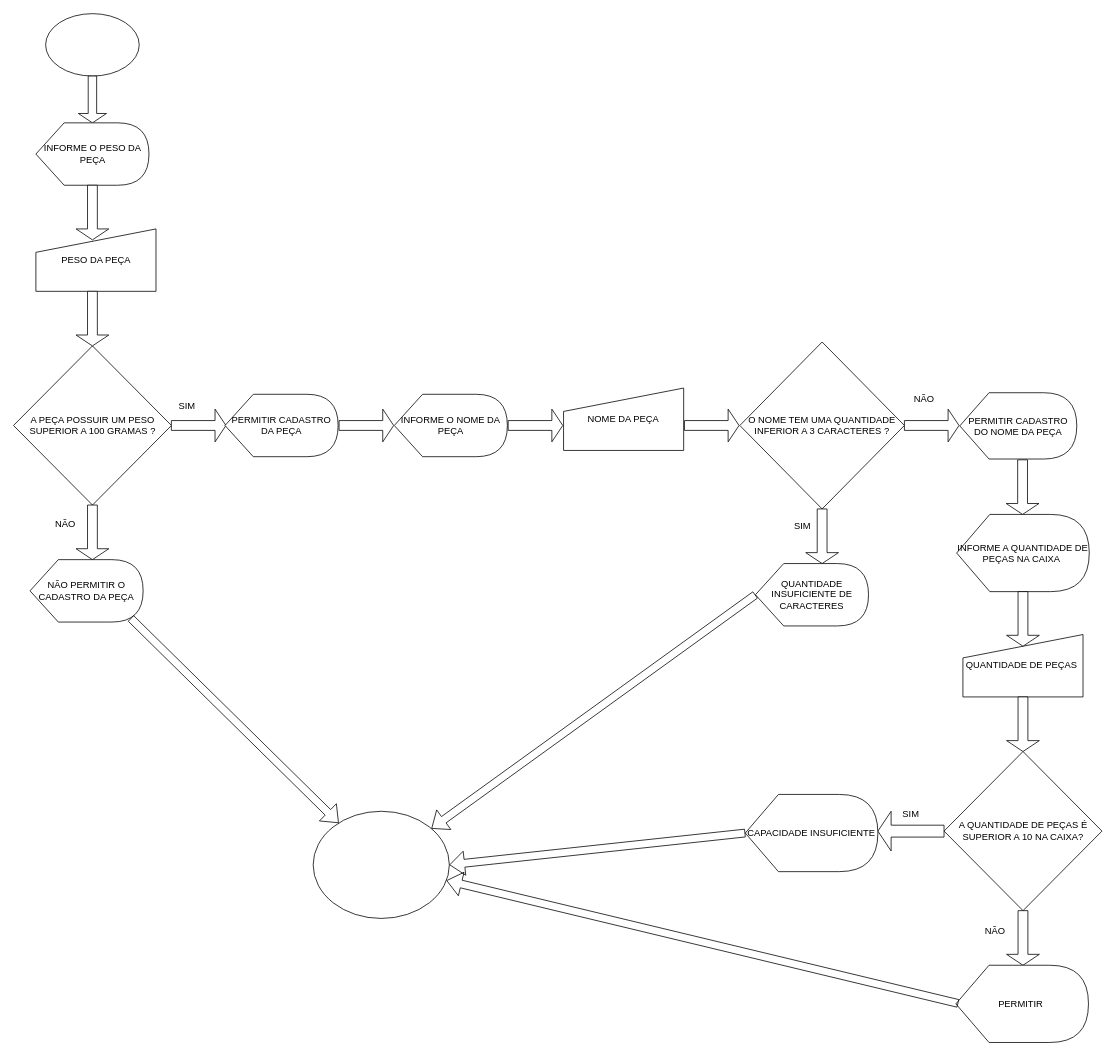
The diagram is 1116 pixels wide and 1056 high, and some of its shapes have lost their labels. The shapes that lost their labels are listed below. From the top down, each one's centre as x and y in pixels, then its label:
point (92, 44): Inicio
point (380, 864): FIM
